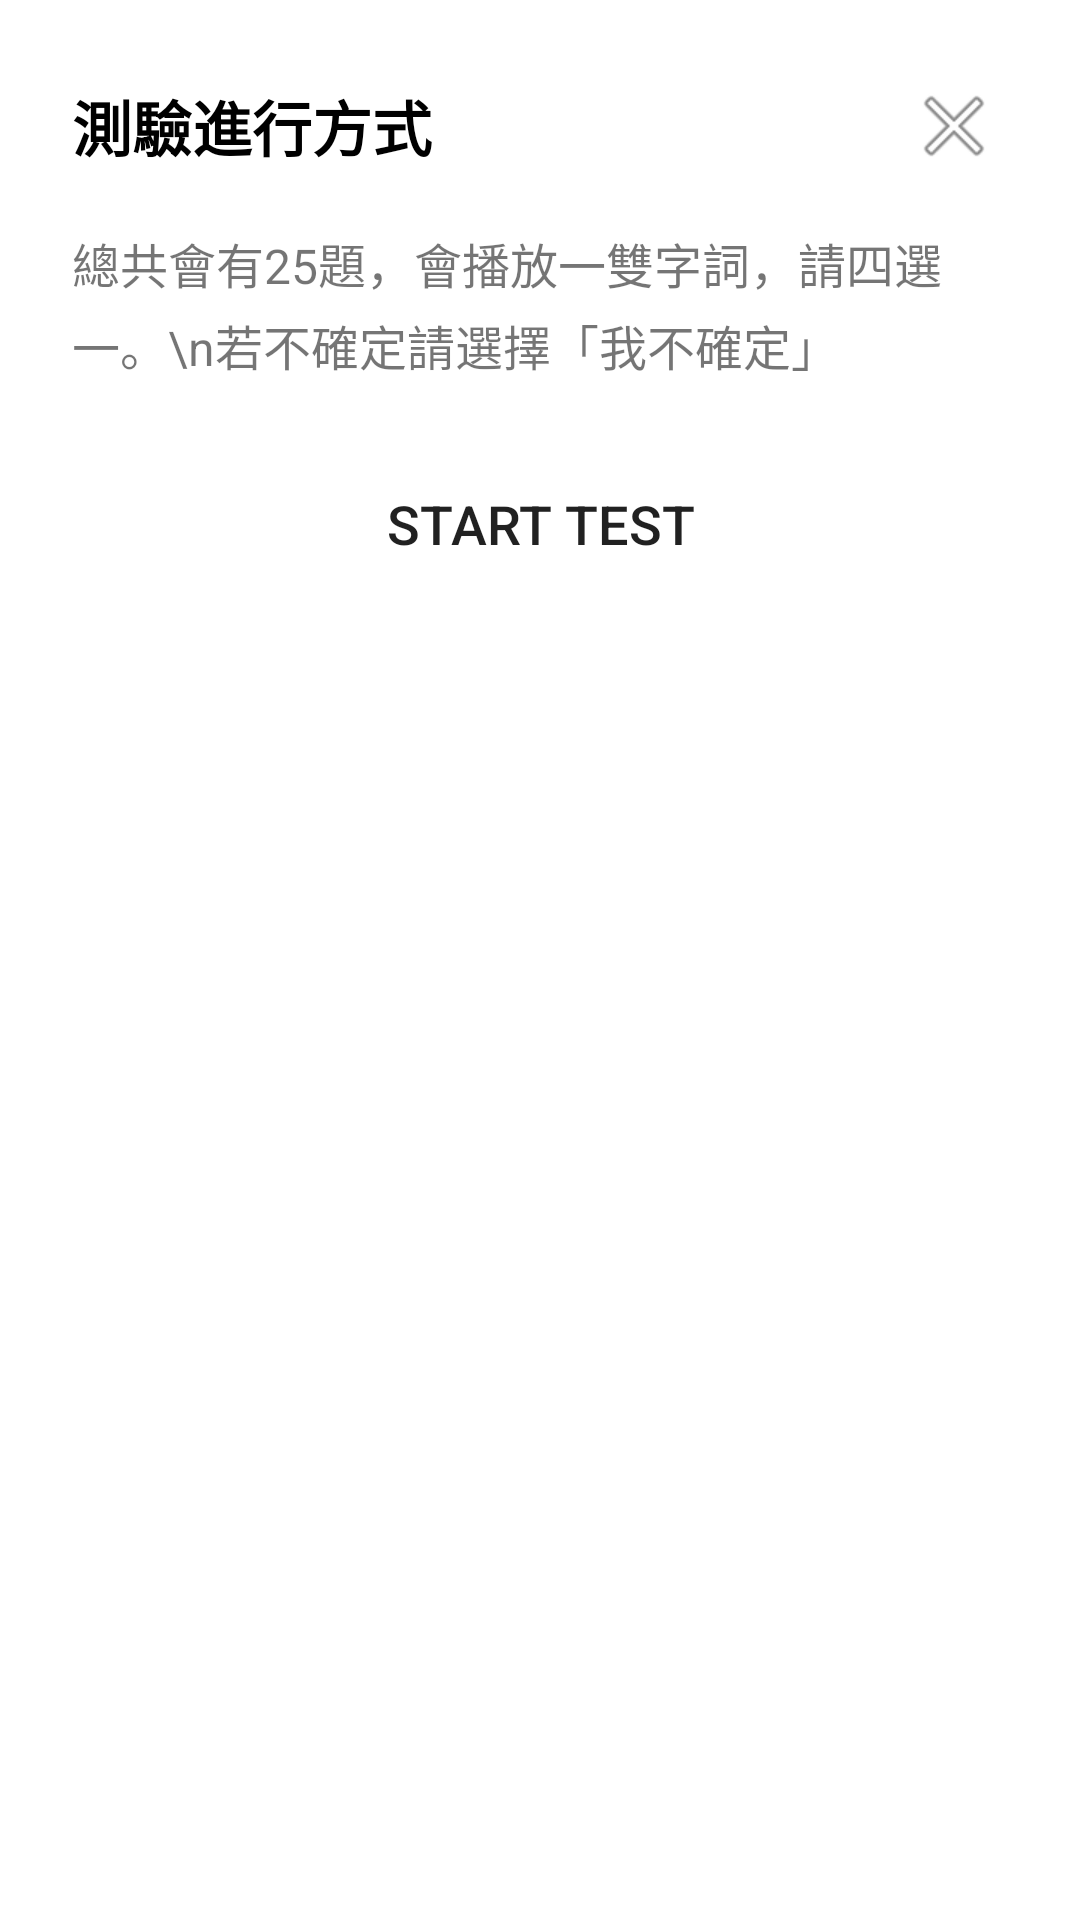

Locate icon controls on the screen. Image size 1080 x 1920, boxes as (x1, y1, x2, y2).
Close: (924, 96, 984, 156)
